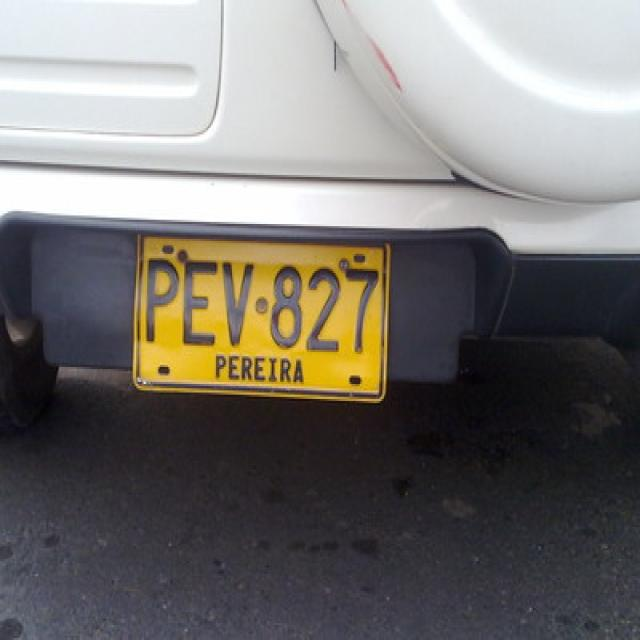placa_carro: (122, 229, 388, 401)
